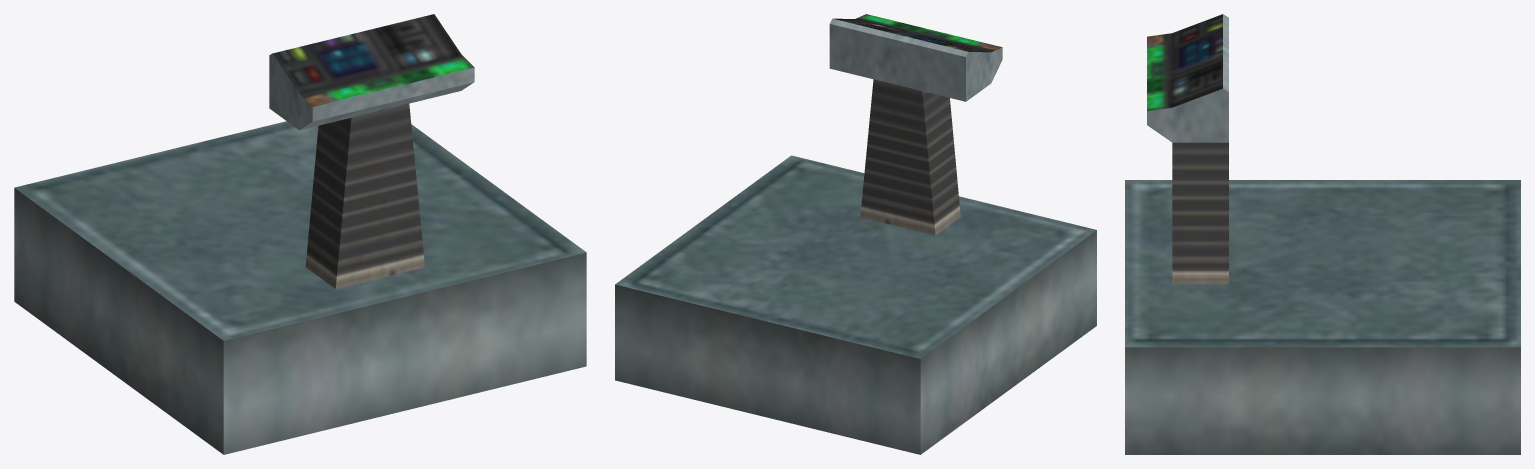
The model's file is ind_console.obj.
3 renders of one model, left to right at view 1: azimuth 30°, elevation 25°; view 2: azimuth 150°, elevation 25°; view 3: azimuth 270°, elevation 25°, orthographic. The views are drawn at different scales.
Visible parts, largest first — view 1: console; view 2: console; view 3: console.
Part boxes in pixels (box(x1,y1,x2,y2)): console: box(14, 14, 586, 454); console: box(615, 14, 1096, 454); console: box(1125, 14, 1520, 454).
Bounding box in the file's own units: 1 × 0.8924 × 1.
1 material, 1 textured.
